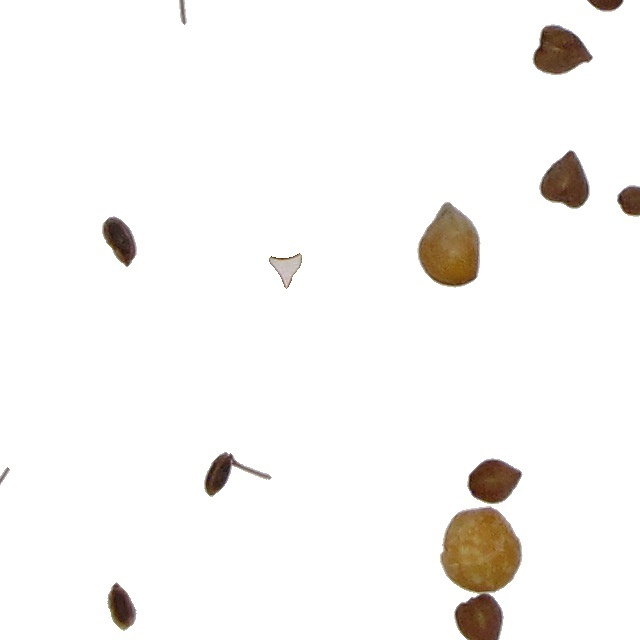buckwheat: (533, 23, 592, 76), (539, 149, 591, 209), (470, 458, 521, 502), (455, 594, 503, 640), (617, 183, 639, 218), (587, 1, 625, 12)
dill: (203, 452, 272, 495), (102, 216, 138, 269), (268, 251, 303, 291), (108, 582, 137, 630), (177, 1, 187, 29), (1, 465, 12, 485)
mais: (441, 507, 522, 593), (416, 202, 481, 287)
